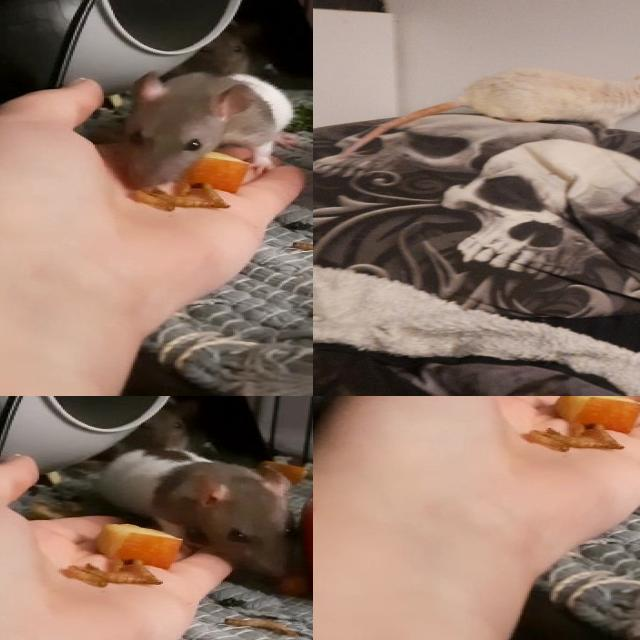rat: (82, 446, 292, 581), (125, 74, 291, 190), (456, 67, 640, 126), (121, 396, 207, 449), (194, 21, 264, 79)
